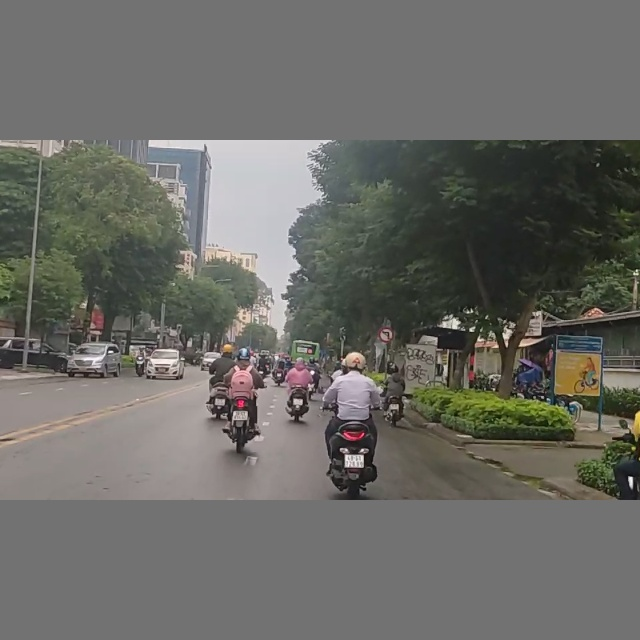P.123a: (379, 327, 395, 342)
